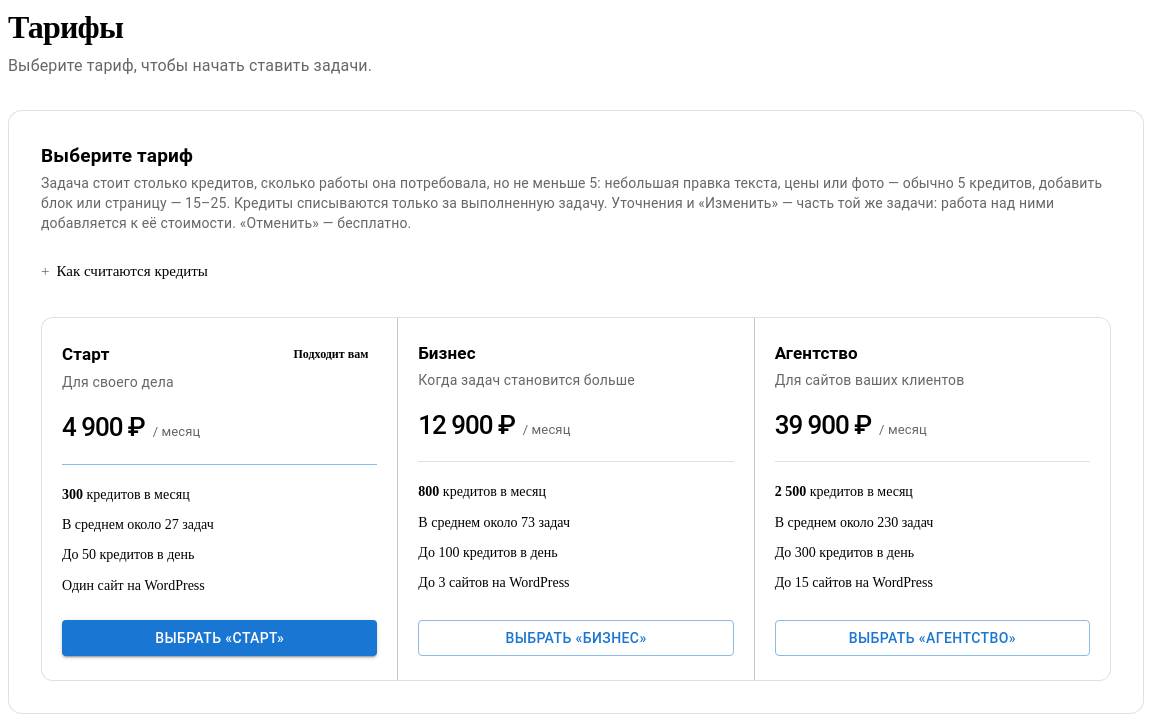
Test: choosing a tariff › refreshes the page behind the dialog when the checkout is refused
What coordinates should you click on to do the following:
click the button "Выбрать «Бизнес»"
I would click on:
 (576, 638)
Its box is top-left (418, 620), bottom-right (734, 656).
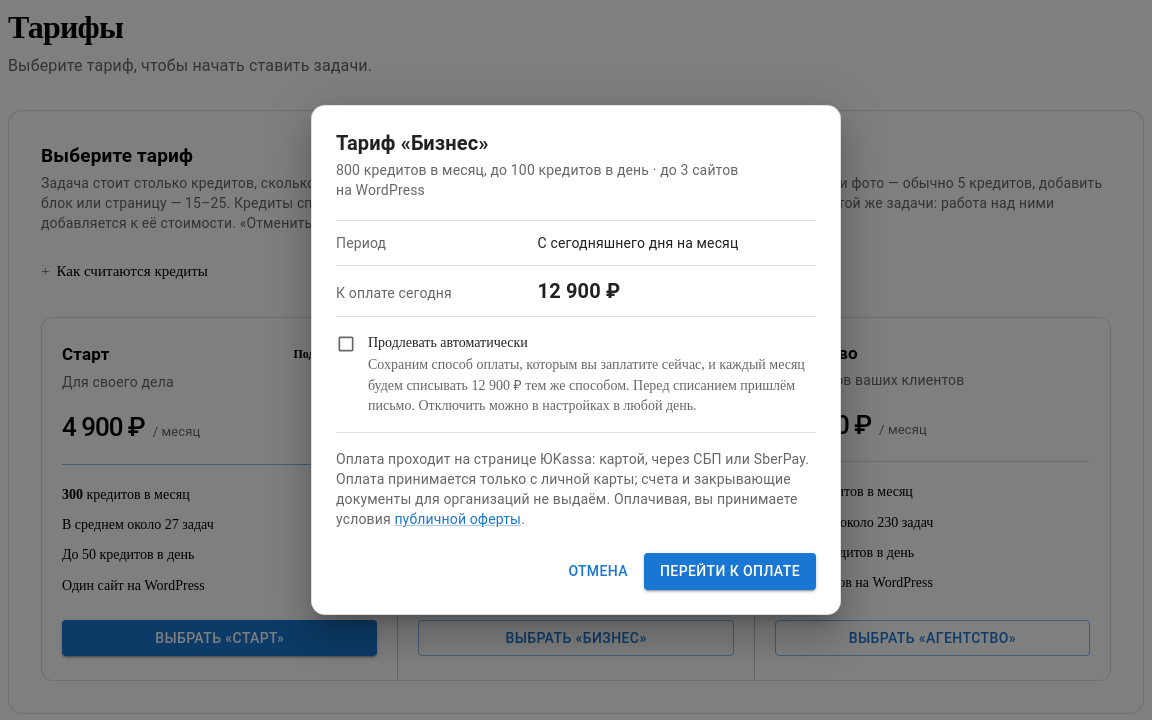
What coordinates should you click on to do the following:
click the button "Перейти к оплате"
I would click on:
 (730, 572)
Its box is top-left (644, 553), bottom-right (816, 590).
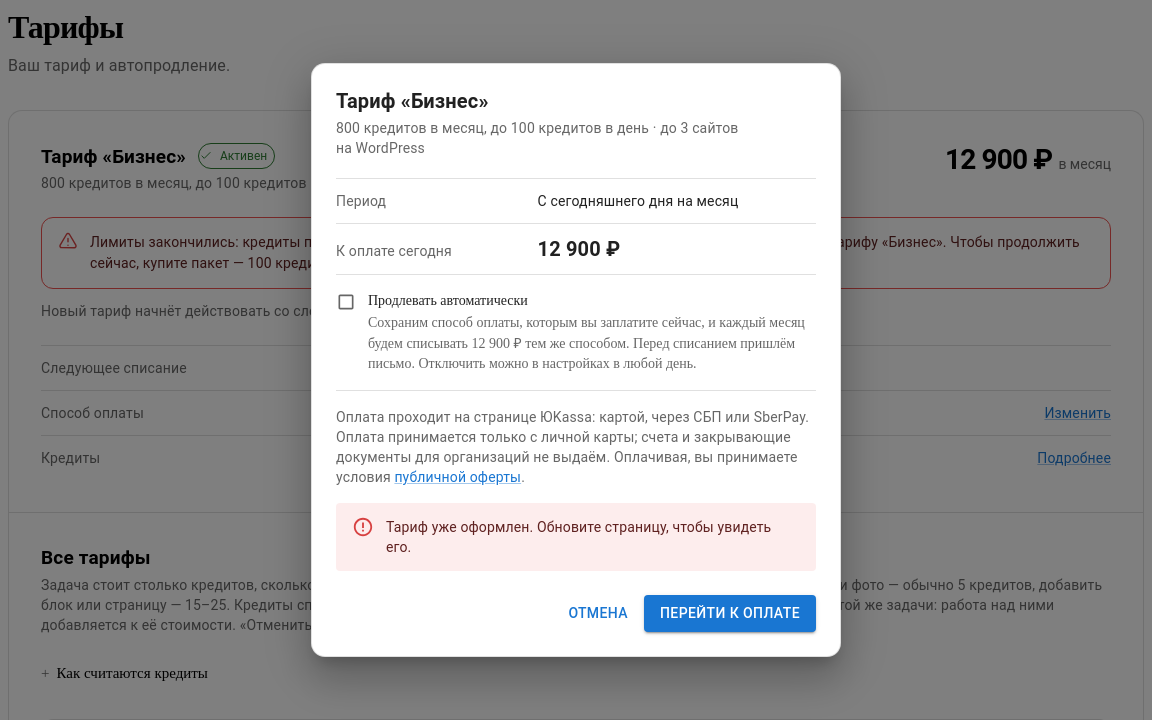
Result: the message reads "Тариф уже оформлен. Обновите страницу, чтобы увидеть его." at top-left (386, 519), bottom-right (771, 555)
What coordinates should you click on to do the following:
click the button "Отмена"
I would click on:
 (598, 614)
Its box is top-left (560, 595), bottom-right (636, 632).
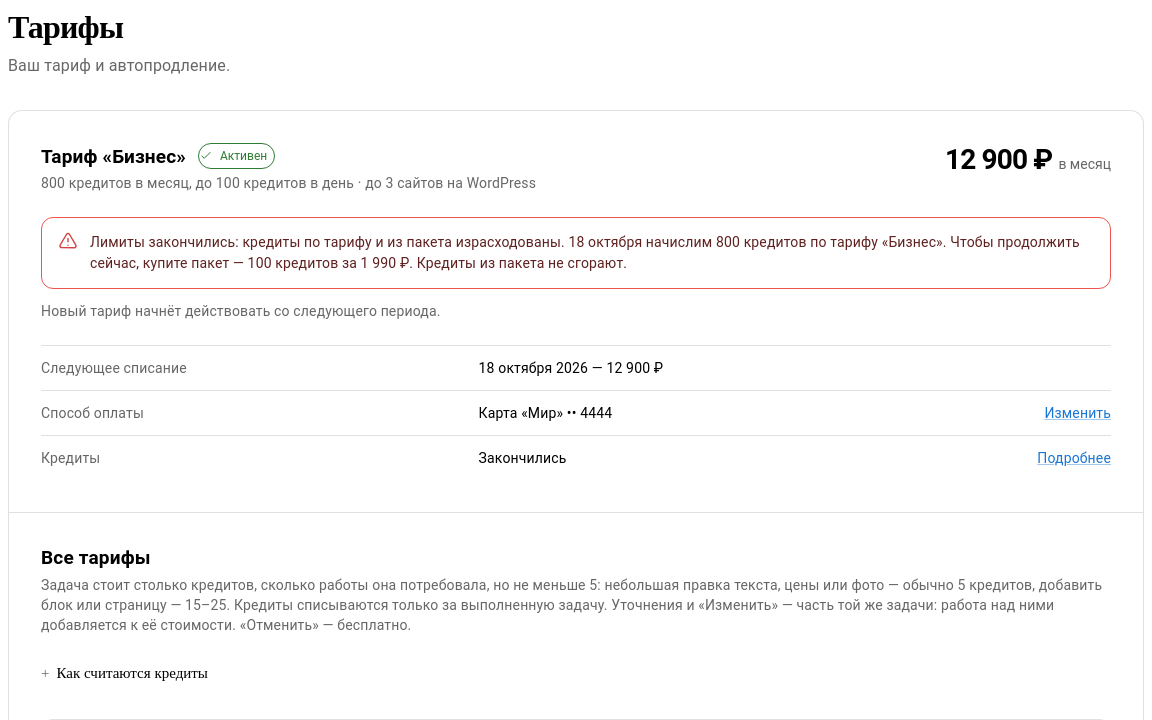
Expected: the button "Выбрать" is not shown
Result: the heading "Тариф «Бизнес»" is shown at top-left (41, 144), bottom-right (186, 169)
Result: the dialog is gone
